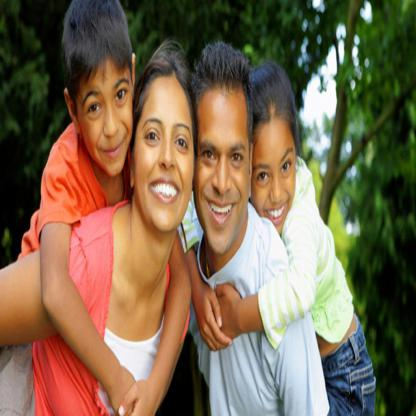face: (196, 84, 250, 256), (138, 73, 195, 235), (79, 55, 133, 178), (256, 122, 297, 242)
